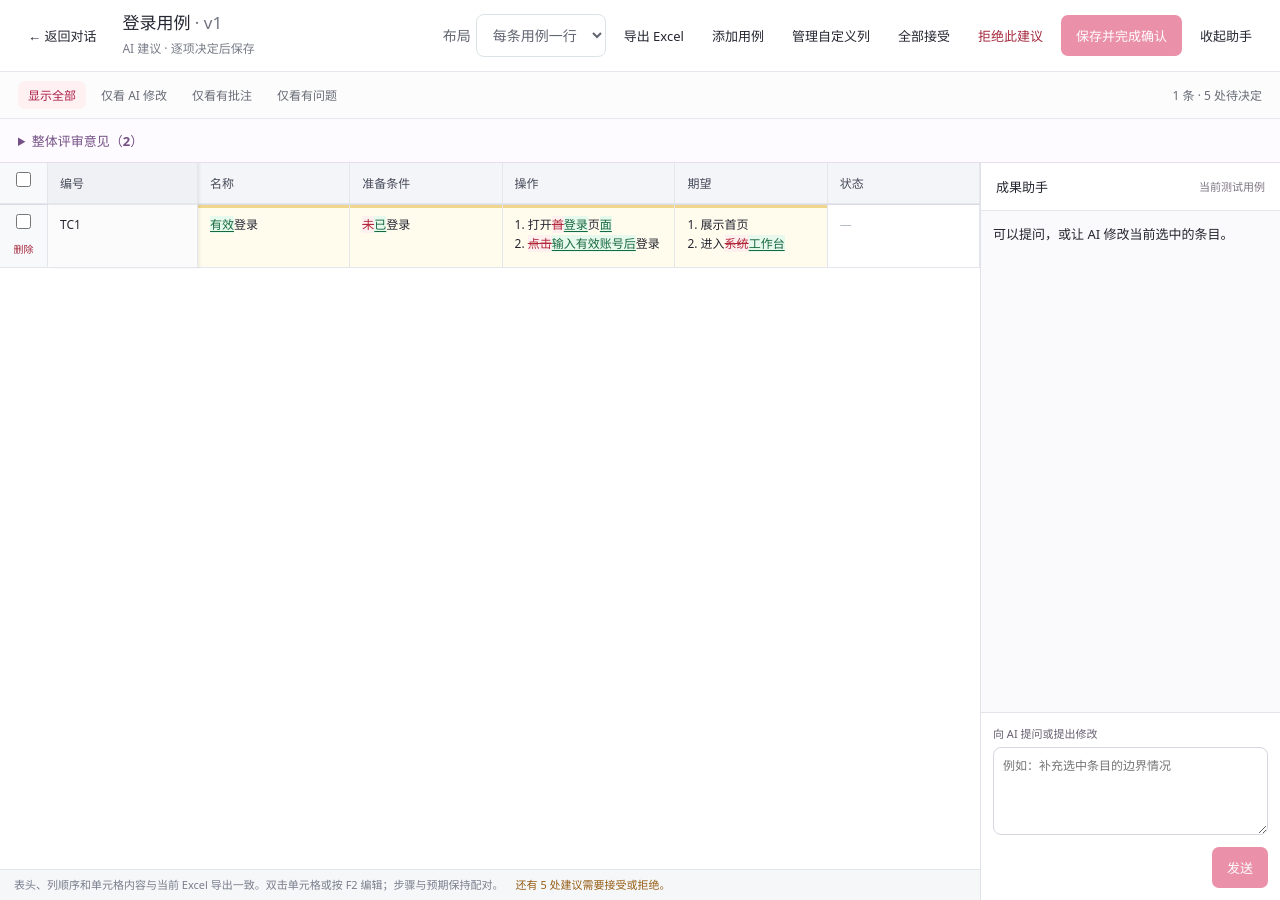
it: comments without a mapped case or field remain in global review notes and default columns cannot be edited
The width and height of the screenshot is (1280, 900).
Expected: the table named "测试用例工作表" is shown, [0, 163, 980, 268]
Expected: the heading "整体评审意见（2）" is shown, [32, 132, 143, 150]
Double-click the button named "TC1 状态".
double_click(846, 224)  # box [840, 216, 852, 233]
Click the button "仅看有批注".
click(222, 95)  # box [182, 81, 262, 109]
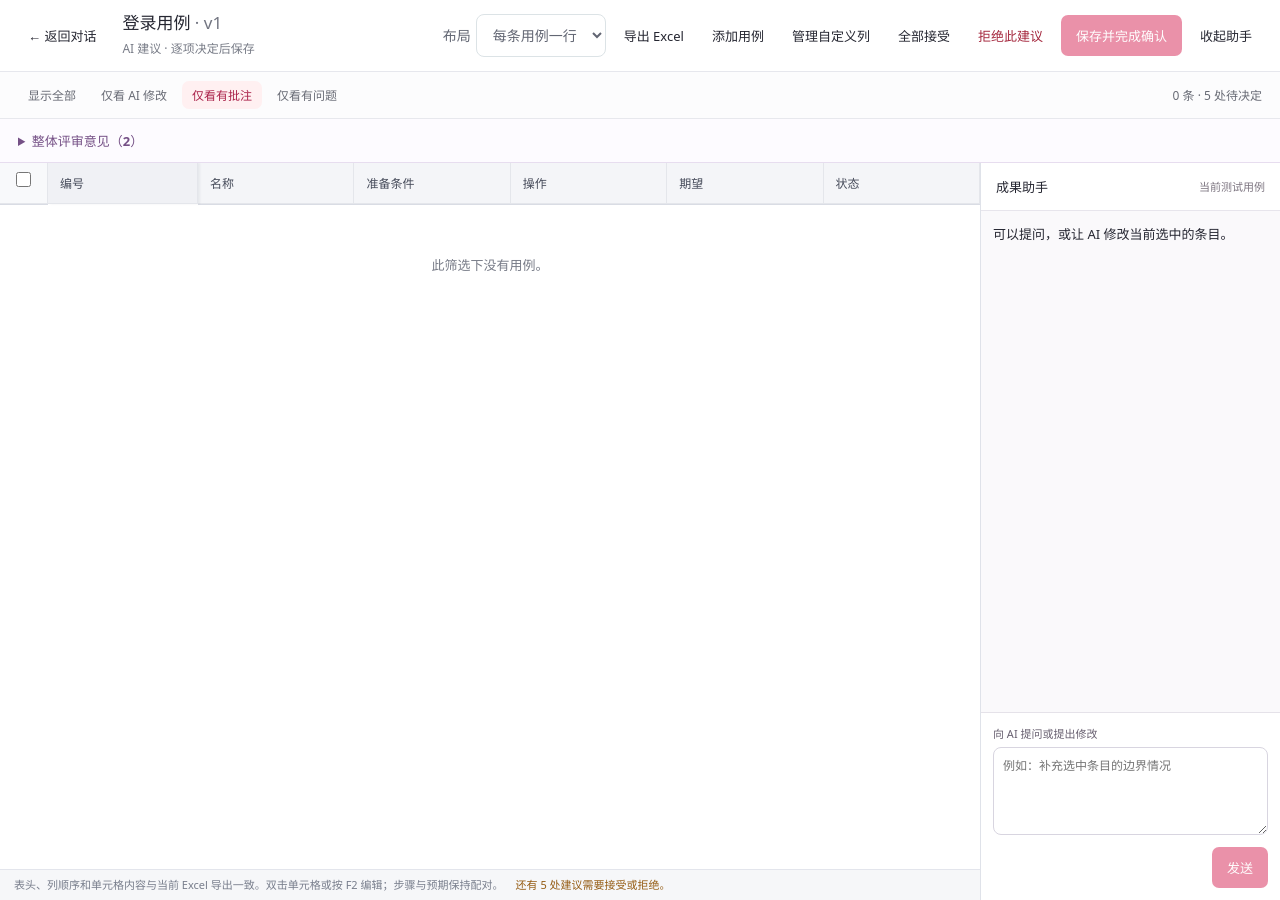
Result: the text "此筛选下没有用例。" is shown at [432, 256, 548, 274]
